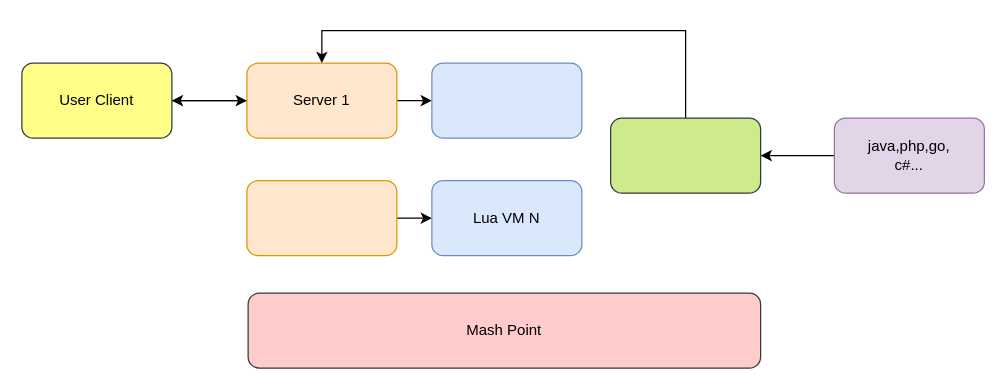
This 1006x390 diagram has some shape labels left out. The centre of each missing label's shape, as x and y in pixels:
"API Server" goes at [685,155].
"Lua VM 1" goes at [506,100].
"Server N" goes at [321,217].
